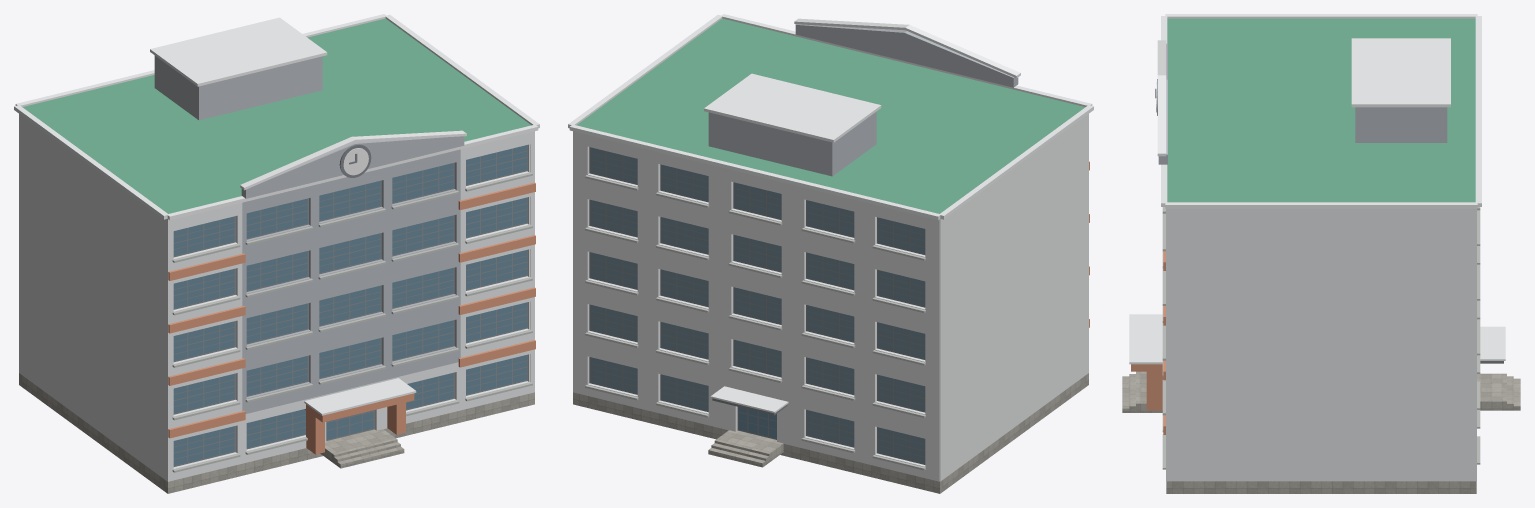
The picture shows the model from 3 angles, left to right: view 1: azimuth 30°, elevation 25°; view 2: azimuth 150°, elevation 25°; view 3: azimuth 270°, elevation 25°; orthographic projection. The views are drawn at different scales.
Visible parts, largest first — view 1: main__panel, main__canopy, main__glass, main__metalroof, main__cap, main__frame, main__terracotta, main__sill, main__stone, main__stair-front, main__threshold-front; view 2: main__panel, main__canopy, main__sideglass, main__cap, main__metalroof, main__frame, main__stone, main__sill, main__stair-north-service, main__glass, main__threshold-north-service; view 3: main__panel, main__canopy, main__cap, main__stone, main__metalroof, main__sill, main__terracotta, main__stair-front, main__threshold-north-service, main__stair-north-service.
Boxes of the visible parts, x1,y1,x2,y2 form: main__panel: (19, 114, 534, 481); main__canopy: (22, 18, 531, 213); main__glass: (173, 145, 527, 465); main__metalroof: (154, 55, 464, 413); main__cap: (14, 14, 539, 415); main__frame: (173, 145, 527, 466); main__terracotta: (168, 182, 535, 454); main__sill: (172, 172, 532, 472); main__stone: (19, 373, 534, 493); main__stair-front: (331, 437, 404, 468); main__threshold-front: (320, 429, 393, 460); main__panel: (573, 114, 1088, 481); main__canopy: (576, 18, 1085, 213); main__sideglass: (590, 147, 925, 463); main__cap: (568, 14, 1093, 413); main__metalroof: (708, 24, 1018, 176); main__frame: (589, 147, 925, 464); main__stone: (573, 373, 1088, 493); main__sill: (585, 175, 925, 470); main__stair-north-service: (708, 438, 772, 467); main__glass: (738, 407, 776, 438); main__threshold-north-service: (718, 430, 783, 460); main__panel: (1166, 209, 1476, 481); main__canopy: (1167, 18, 1475, 202); main__cap: (1129, 14, 1505, 364); main__stone: (1166, 481, 1476, 493); main__metalroof: (1158, 43, 1447, 164); main__sill: (1162, 207, 1480, 469); main__terracotta: (1131, 251, 1165, 434); main__stair-front: (1122, 371, 1142, 412); main__threshold-north-service: (1477, 373, 1500, 410); main__stair-north-service: (1500, 373, 1520, 410).
Bounding box in the file's own units: 25.5 × 20.48 × 22.44.
13 materials, 1 textured.
